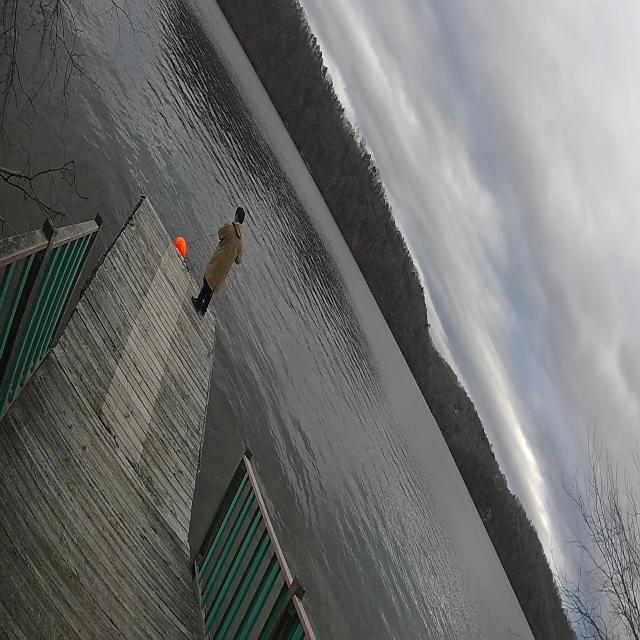Buoy: (174, 234, 188, 261)
